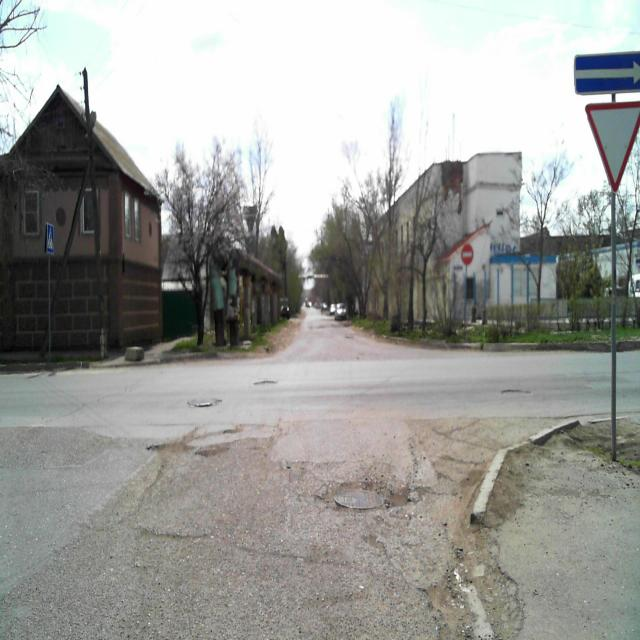road sign: (585, 101, 640, 193), (573, 52, 640, 94), (46, 222, 58, 252)
